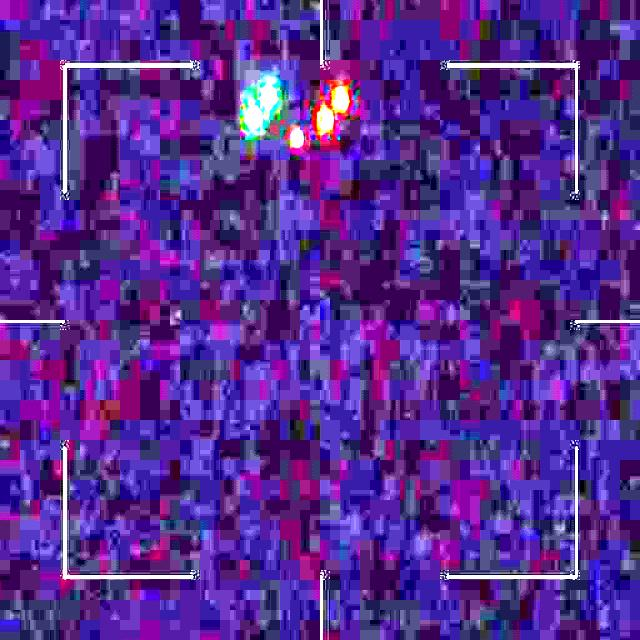bird: (244, 79, 350, 150)
